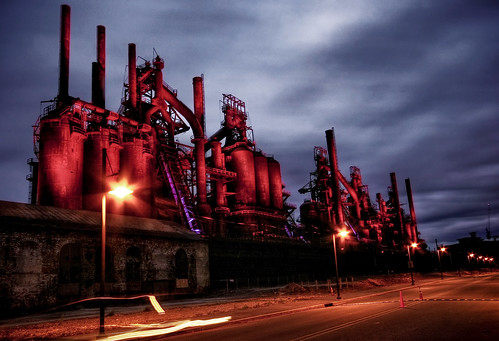building: (30, 9, 173, 225), (1, 201, 219, 315), (190, 80, 306, 234), (312, 142, 423, 250)
sky: (1, 1, 499, 198)
street: (188, 267, 499, 339)
